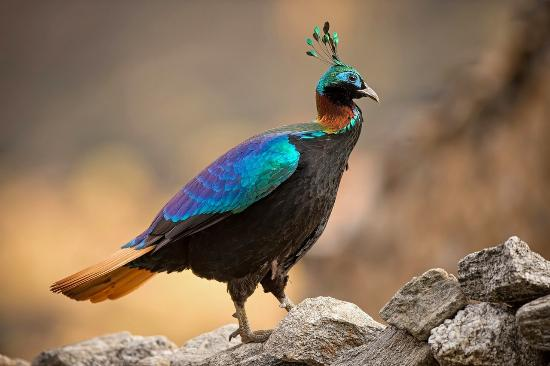bird: (44, 18, 400, 347)
